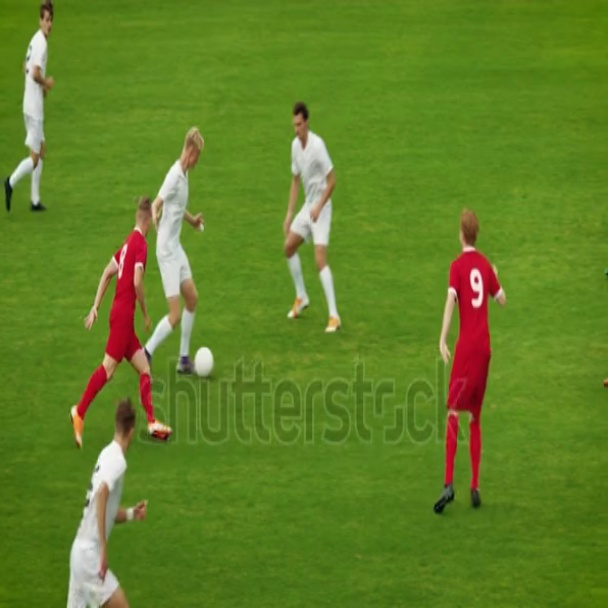ball: (189, 341, 219, 387)
